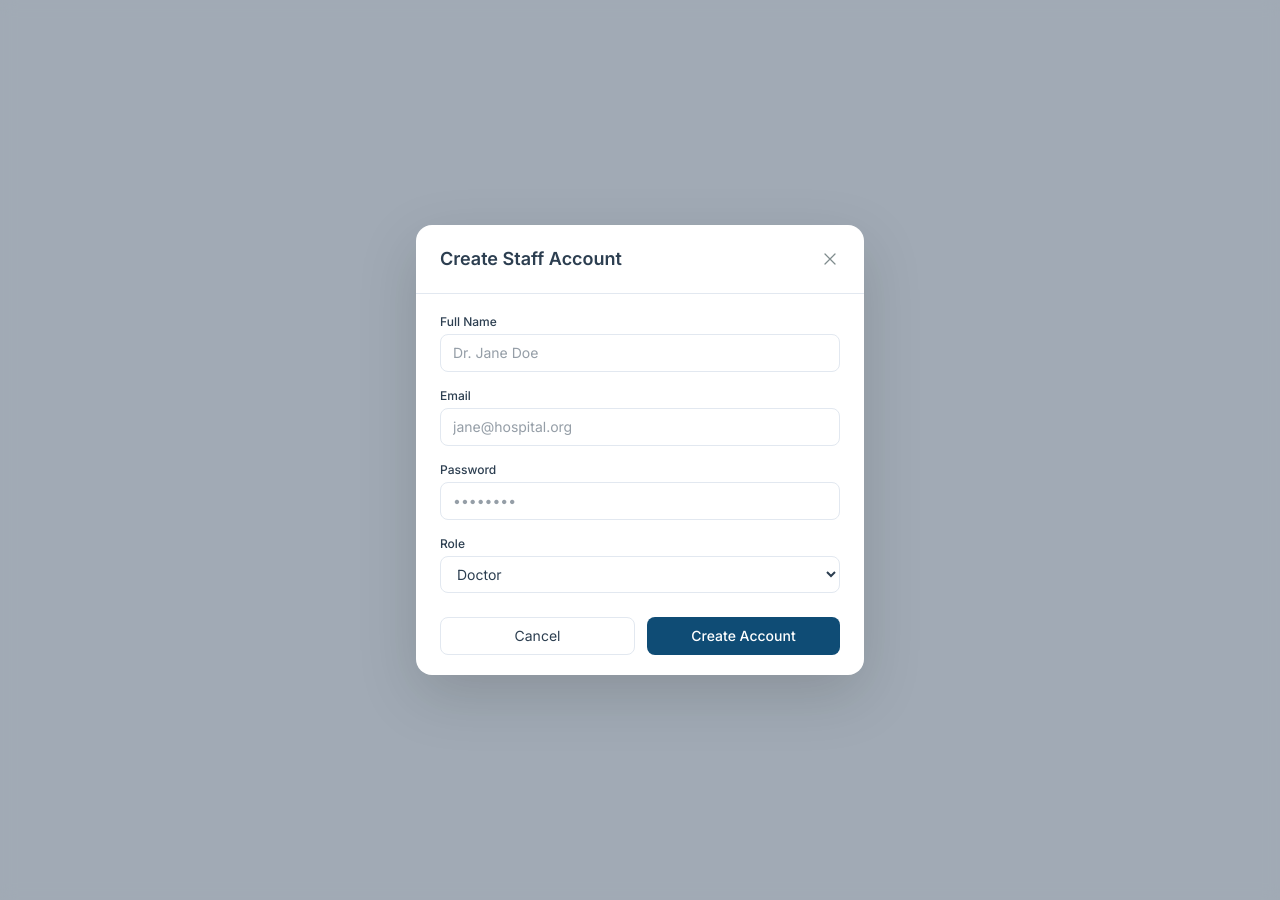
Scenario: CreateStaffModal › displays error when creation fails
The image size is (1280, 900).
fill required fields so the form submits
Type "Jane" into the field labelled "Full Name". click: x=640, y=353
box: [440,334,840,372]
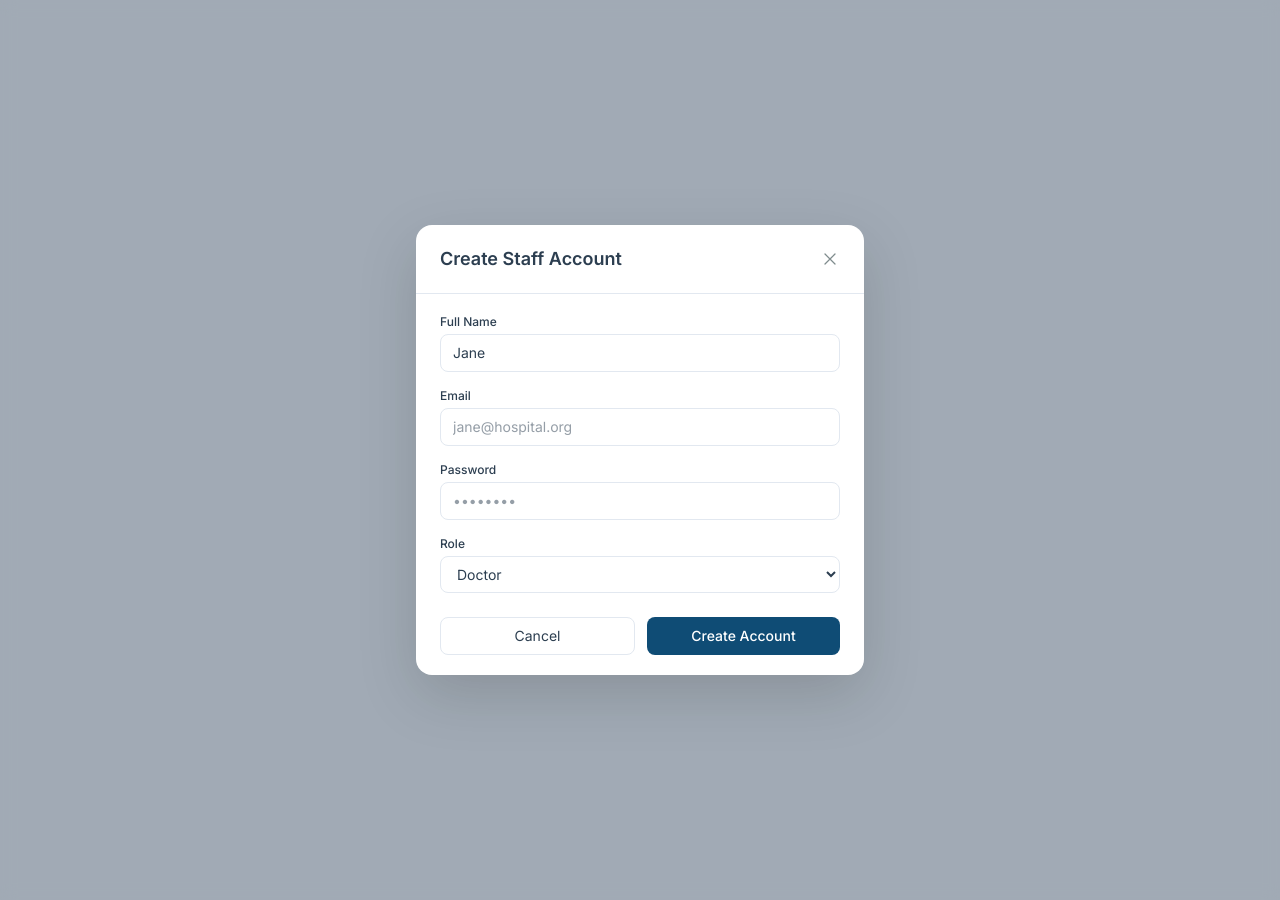
Type "jane@example.com" into the field labelled "Email". click: x=640, y=427
box: [440,408,840,446]
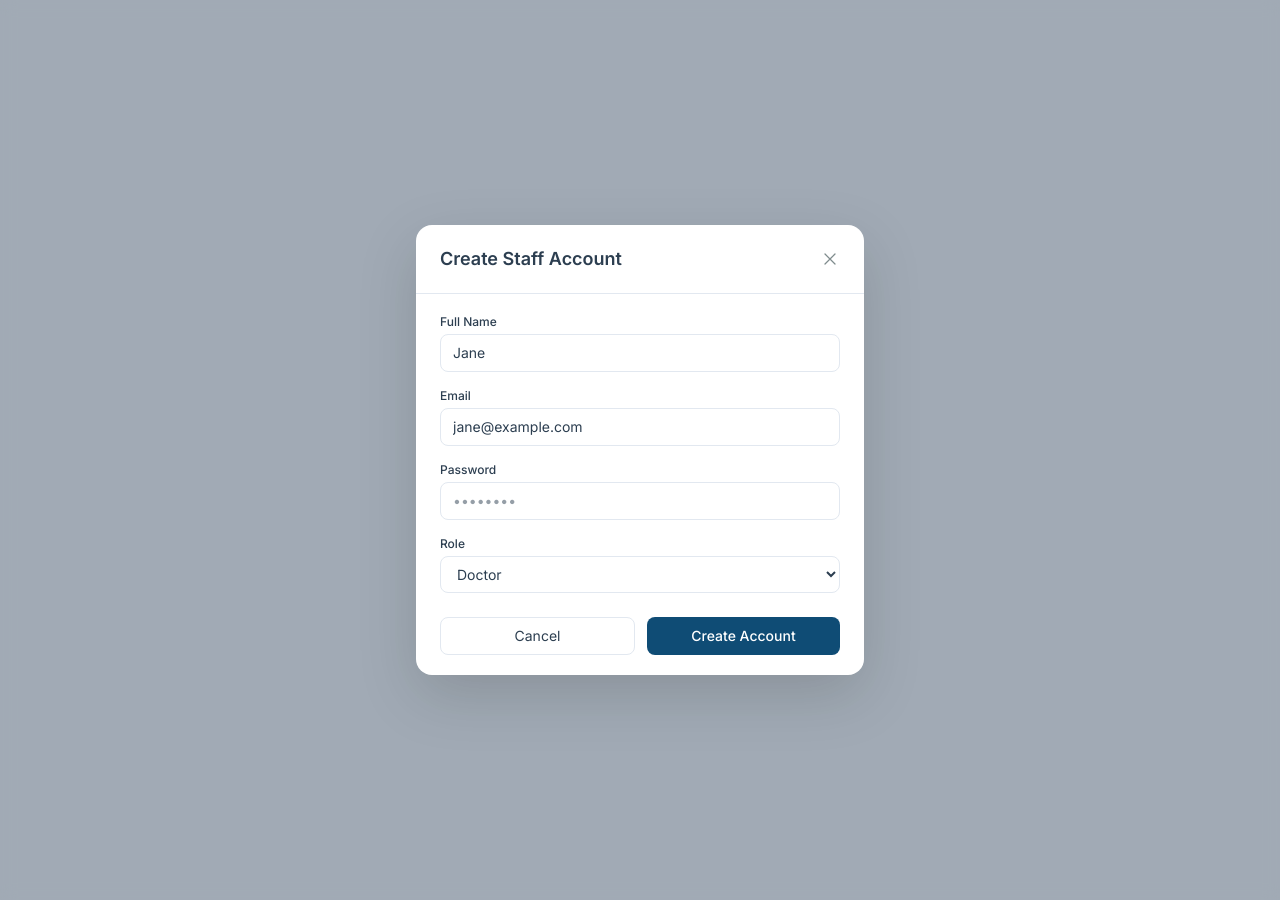
Type "pass1234" into the password field labelled "Password". click: x=640, y=501
box: [440,482,840,520]
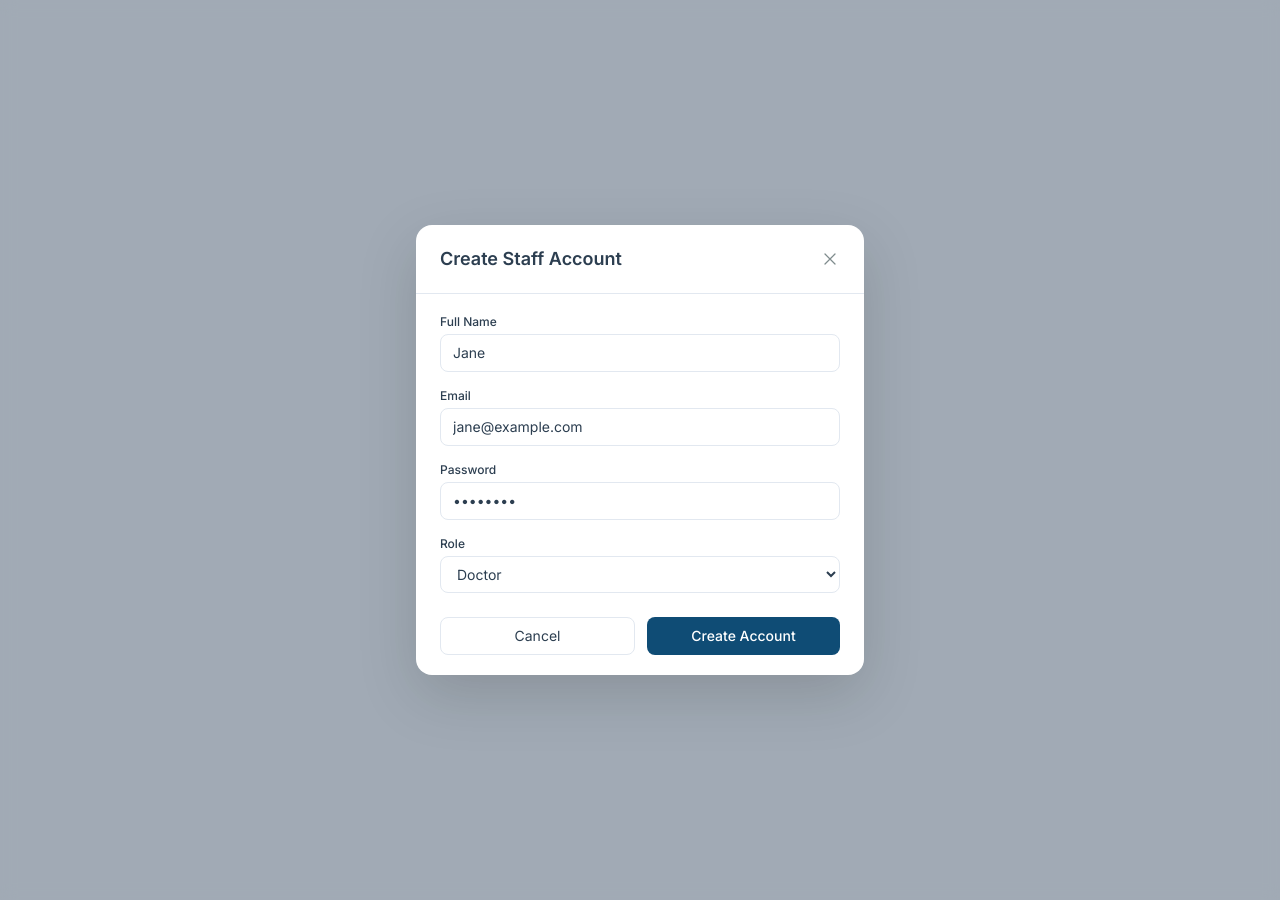
Click the button "Create Account". click: x=744, y=636
box: [647,617,840,655]
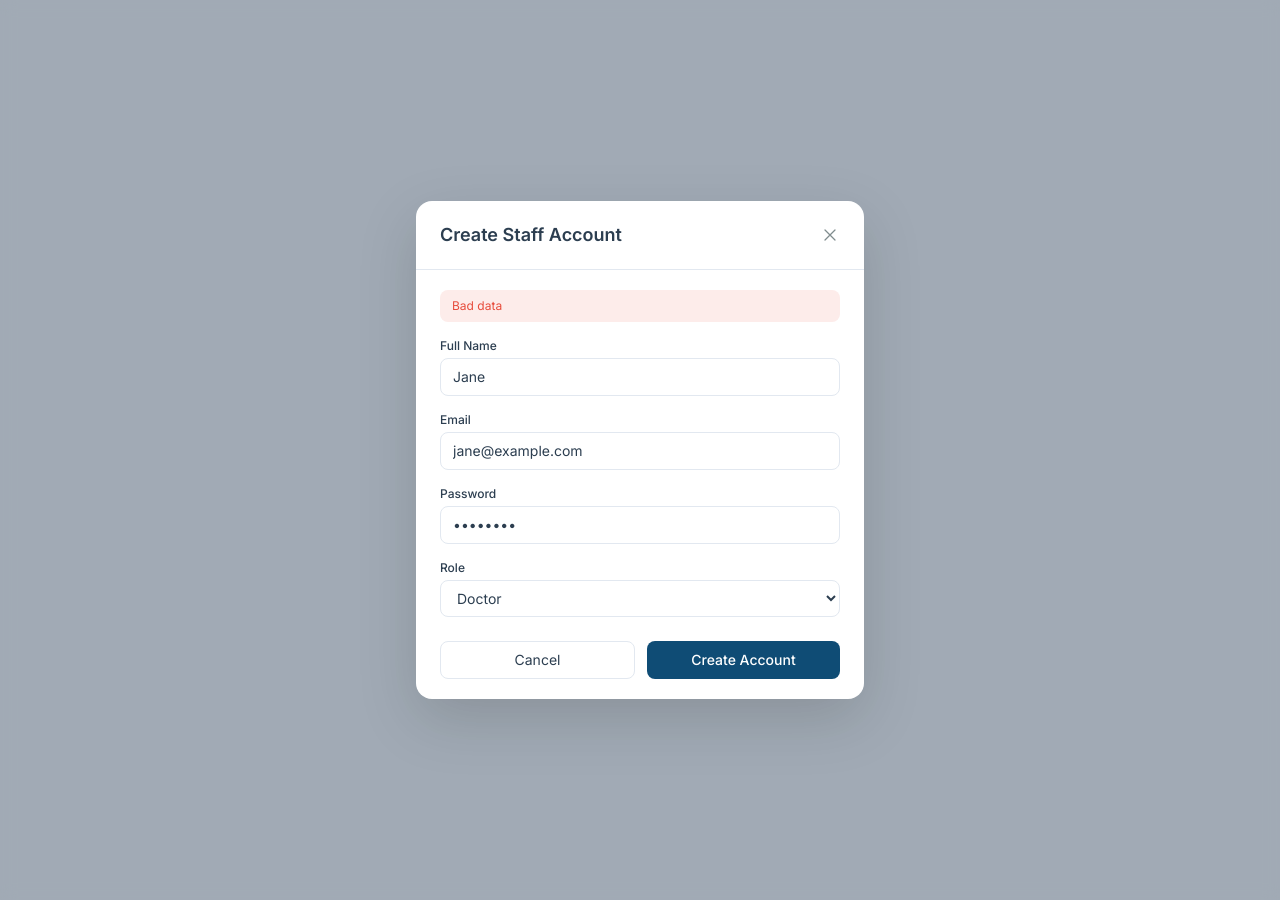
expect the text "Bad data" is shown: met, box [440,290,840,322]
